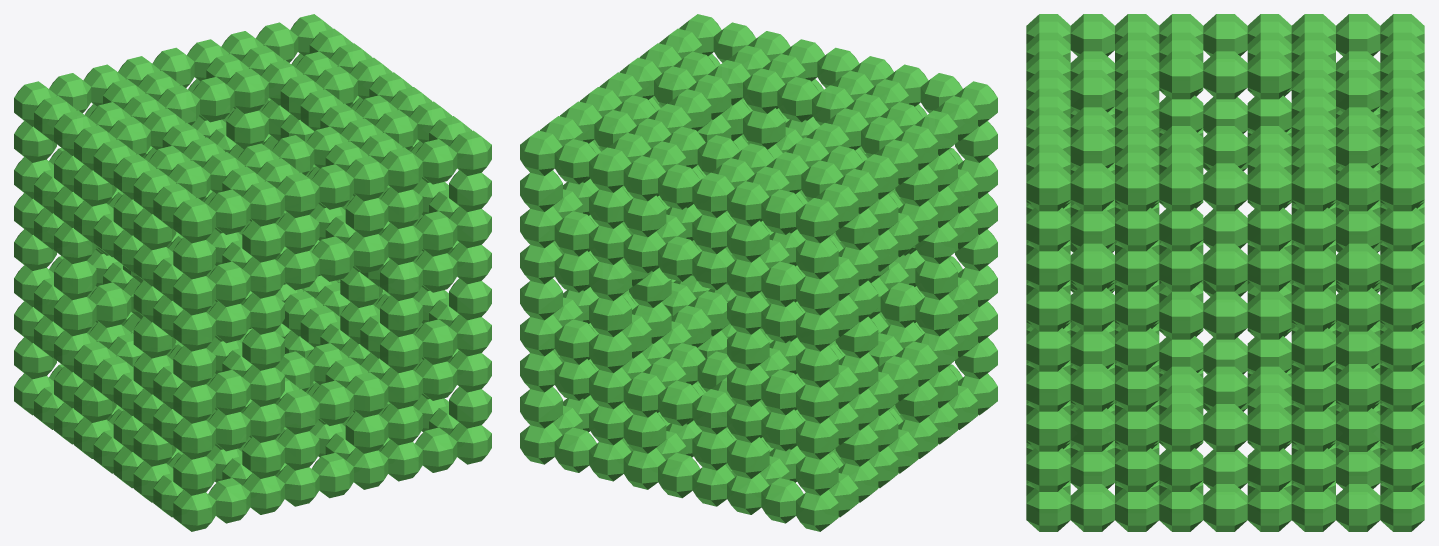
File: fractalrhombicuboctahedron1-2.glb
3 views of the same model, side by side, from view 1: azimuth 30°, elevation 25°; view 2: azimuth 150°, elevation 25°; view 3: azimuth 270°, elevation 25° (orthographic). The views are drawn at different scales.
Size of the model in its own units: 7.19 by 7.19 by 7.19.
